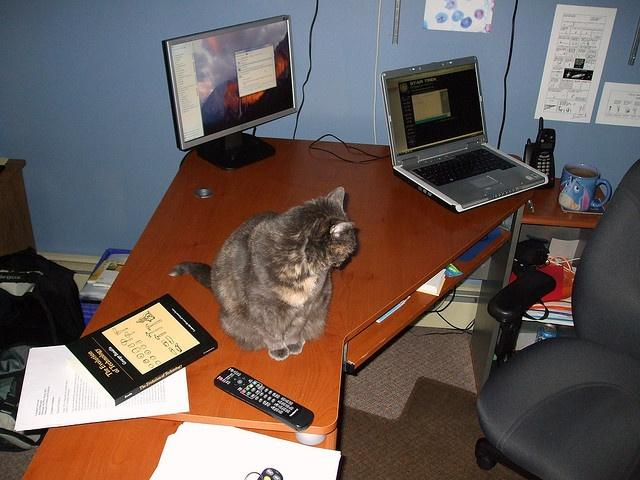AIO PC-Monitor-TV: (161, 13, 298, 151)
Kursi: (474, 156, 639, 478)
Meja: (18, 134, 535, 477)
